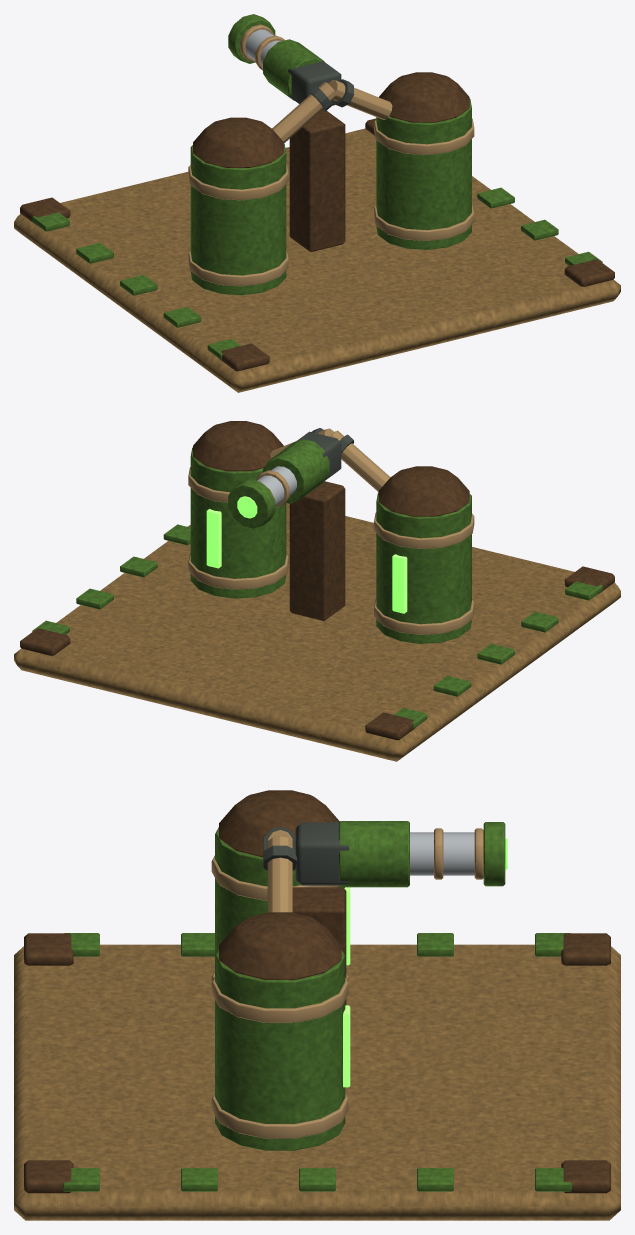
The model's file is vael_tour_acide.gltf.
The picture shows the model from 3 angles, top to bottom: view 1: azimuth 30°, elevation 25°; view 2: azimuth 150°, elevation 25°; view 3: azimuth 270°, elevation 25°; orthographic projection. The views are drawn at different scales.
Parts seen in each view (by area): view 1: Root.014_Geometry, GunRecoil.001_Geometry, GunPitch.003_Geometry; view 2: Root.014_Geometry, GunRecoil.001_Geometry, GunPitch.003_Geometry; view 3: Root.014_Geometry, GunRecoil.001_Geometry, GunPitch.003_Geometry.
Part boxes in pixels (box(x1,y1,x2,y2)): Root.014_Geometry: box(14, 72, 620, 392); GunRecoil.001_Geometry: box(228, 14, 324, 100); GunPitch.003_Geometry: box(288, 61, 341, 105); Root.014_Geometry: box(14, 421, 620, 761); GunRecoil.001_Geometry: box(228, 439, 329, 528); GunPitch.003_Geometry: box(296, 431, 341, 482); Root.014_Geometry: box(14, 790, 620, 1220); GunRecoil.001_Geometry: box(338, 821, 507, 887); GunPitch.003_Geometry: box(295, 822, 349, 885).
Bounding box in the file's own units: 3.91 × 1.94 × 3.91.
7 materials, 3 textured.
